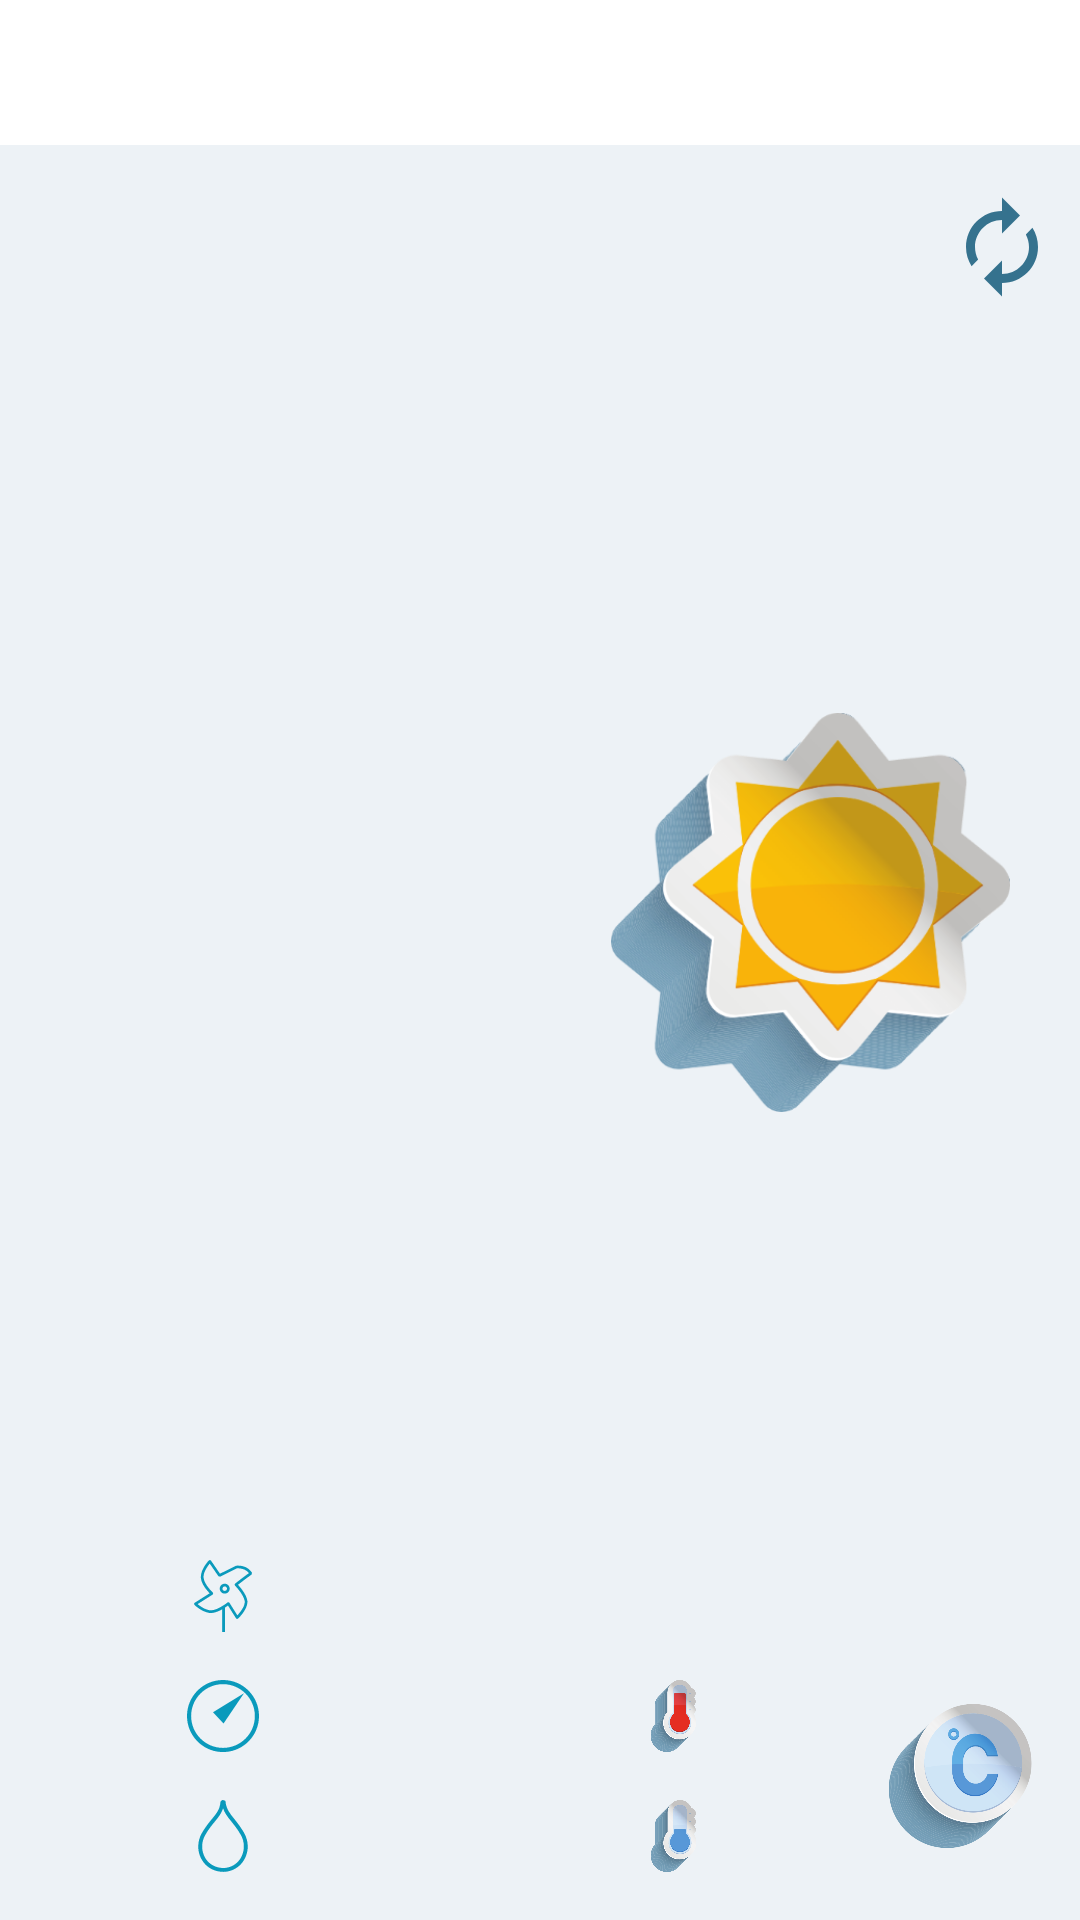

Point at icon controls on the screen. Image size 1080px×1920px, points as [x,y].
humidity: [223,1836]
pressure: [223,1716]
refresh: [1002,247]
wind: [223,1596]
